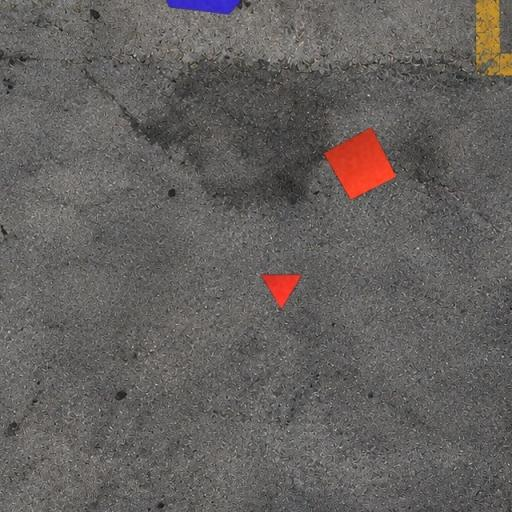RED_SQUARE: (322, 126, 398, 201)
